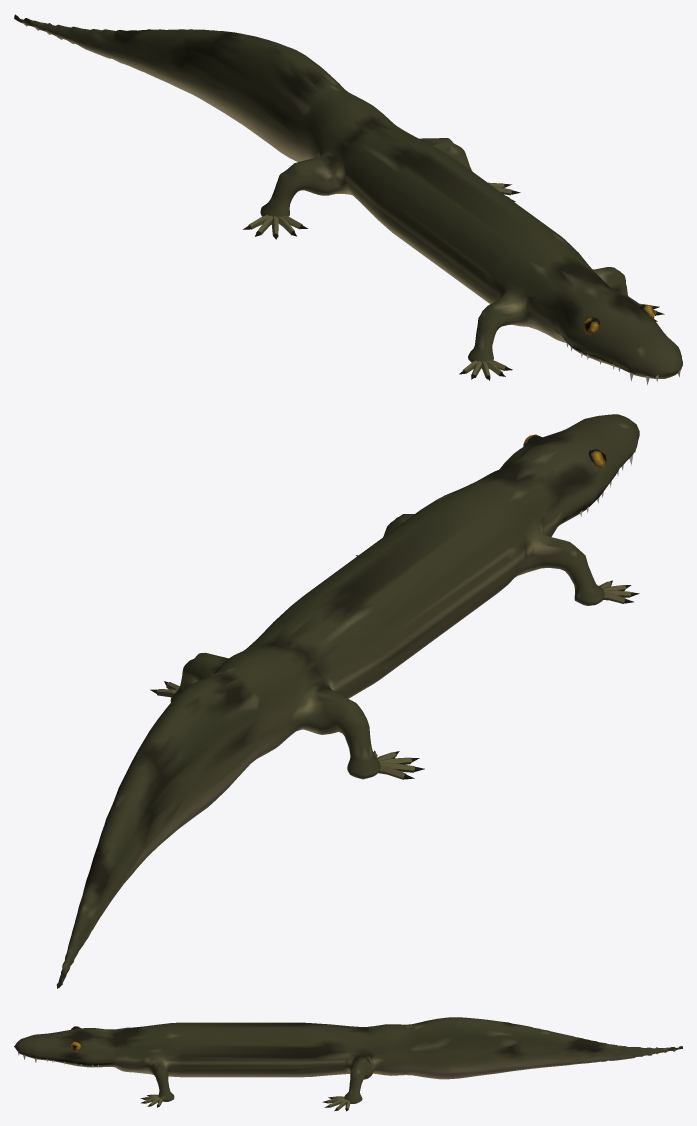
File: Proterogyrinus.fbx
3 renders of one model, top to bottom at view 1: azimuth 30°, elevation 25°; view 2: azimuth 150°, elevation 25°; view 3: azimuth 270°, elevation 25°, orthographic. The views are drawn at different scales.
Parts seen in each view (by area): view 1: Proterogyrinus; view 2: Proterogyrinus; view 3: Proterogyrinus.
Part boxes in pixels (left/top/right/bottom): Proterogyrinus: left=14, top=14, right=682, bottom=384; Proterogyrinus: left=56, top=414, right=639, bottom=988; Proterogyrinus: left=14, top=1017, right=682, bottom=1111.
Size of the model in its own units: 0.3225 by 0.1264 by 1.29.
